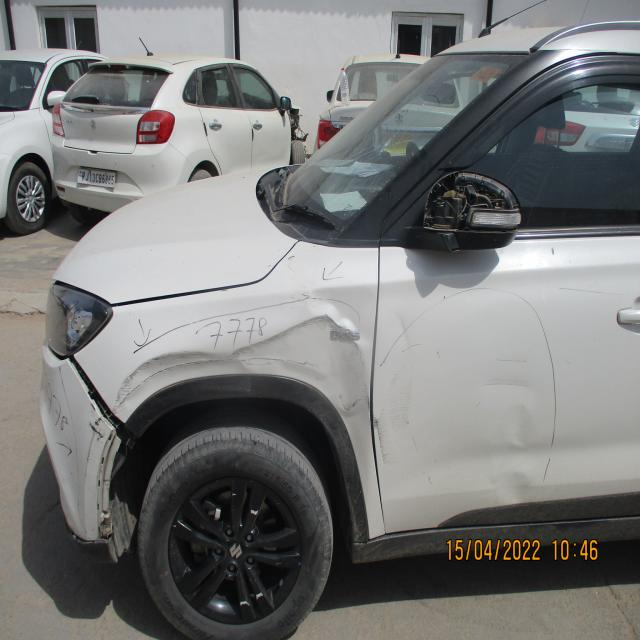damage: (119, 302, 373, 425), (438, 365, 548, 511), (414, 166, 521, 253), (64, 350, 121, 432), (94, 420, 123, 556)
